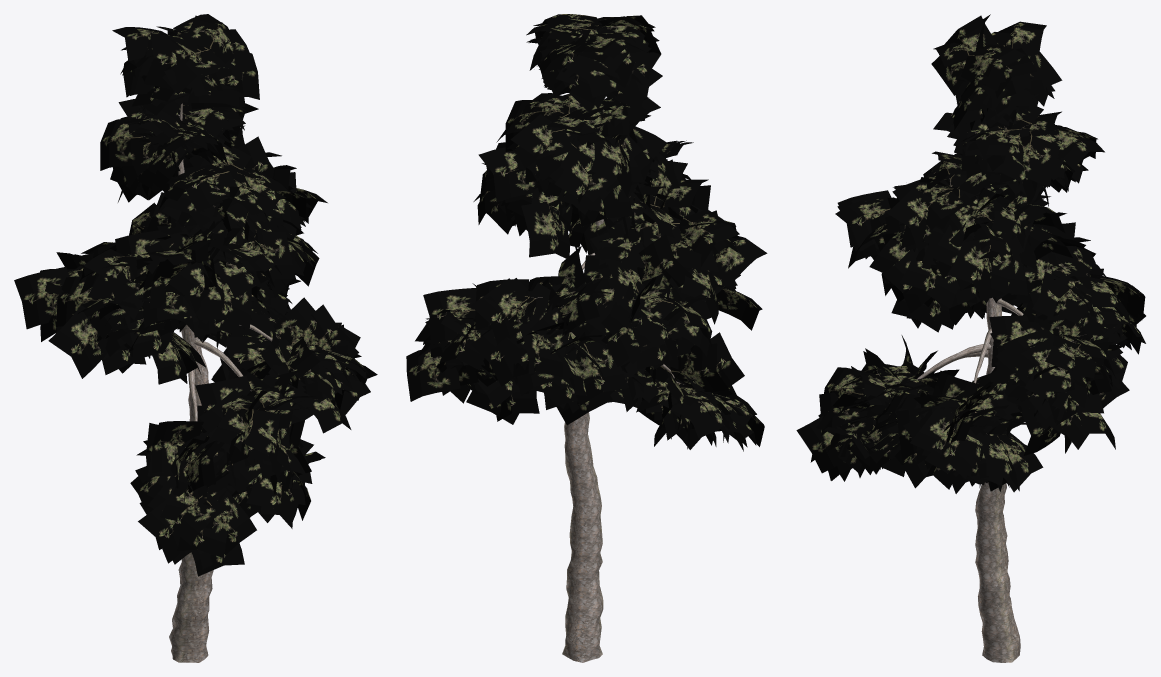
File: mountain_trees3.obj
3 views of the same model, side by side, from view 1: azimuth 30°, elevation 25°; view 2: azimuth 150°, elevation 25°; view 3: azimuth 270°, elevation 25° (orthographic). The views are drawn at different scales.
Parts seen in each view (by area): view 1: foliage.001, structure.002; view 2: foliage.001, structure.002; view 3: foliage.001, structure.002.
Boxes of the visible parts, left/top/right/bottom form: foliage.001: left=14, top=14, right=377, bottom=576; structure.002: left=144, top=103, right=272, bottom=662; foliage.001: left=406, top=14, right=767, bottom=451; structure.002: left=531, top=33, right=683, bottom=662; foliage.001: left=796, top=14, right=1145, bottom=493; structure.002: left=877, top=126, right=1079, bottom=662.
Bounding box in the file's own units: 27.78 × 53.79 × 27.52.
